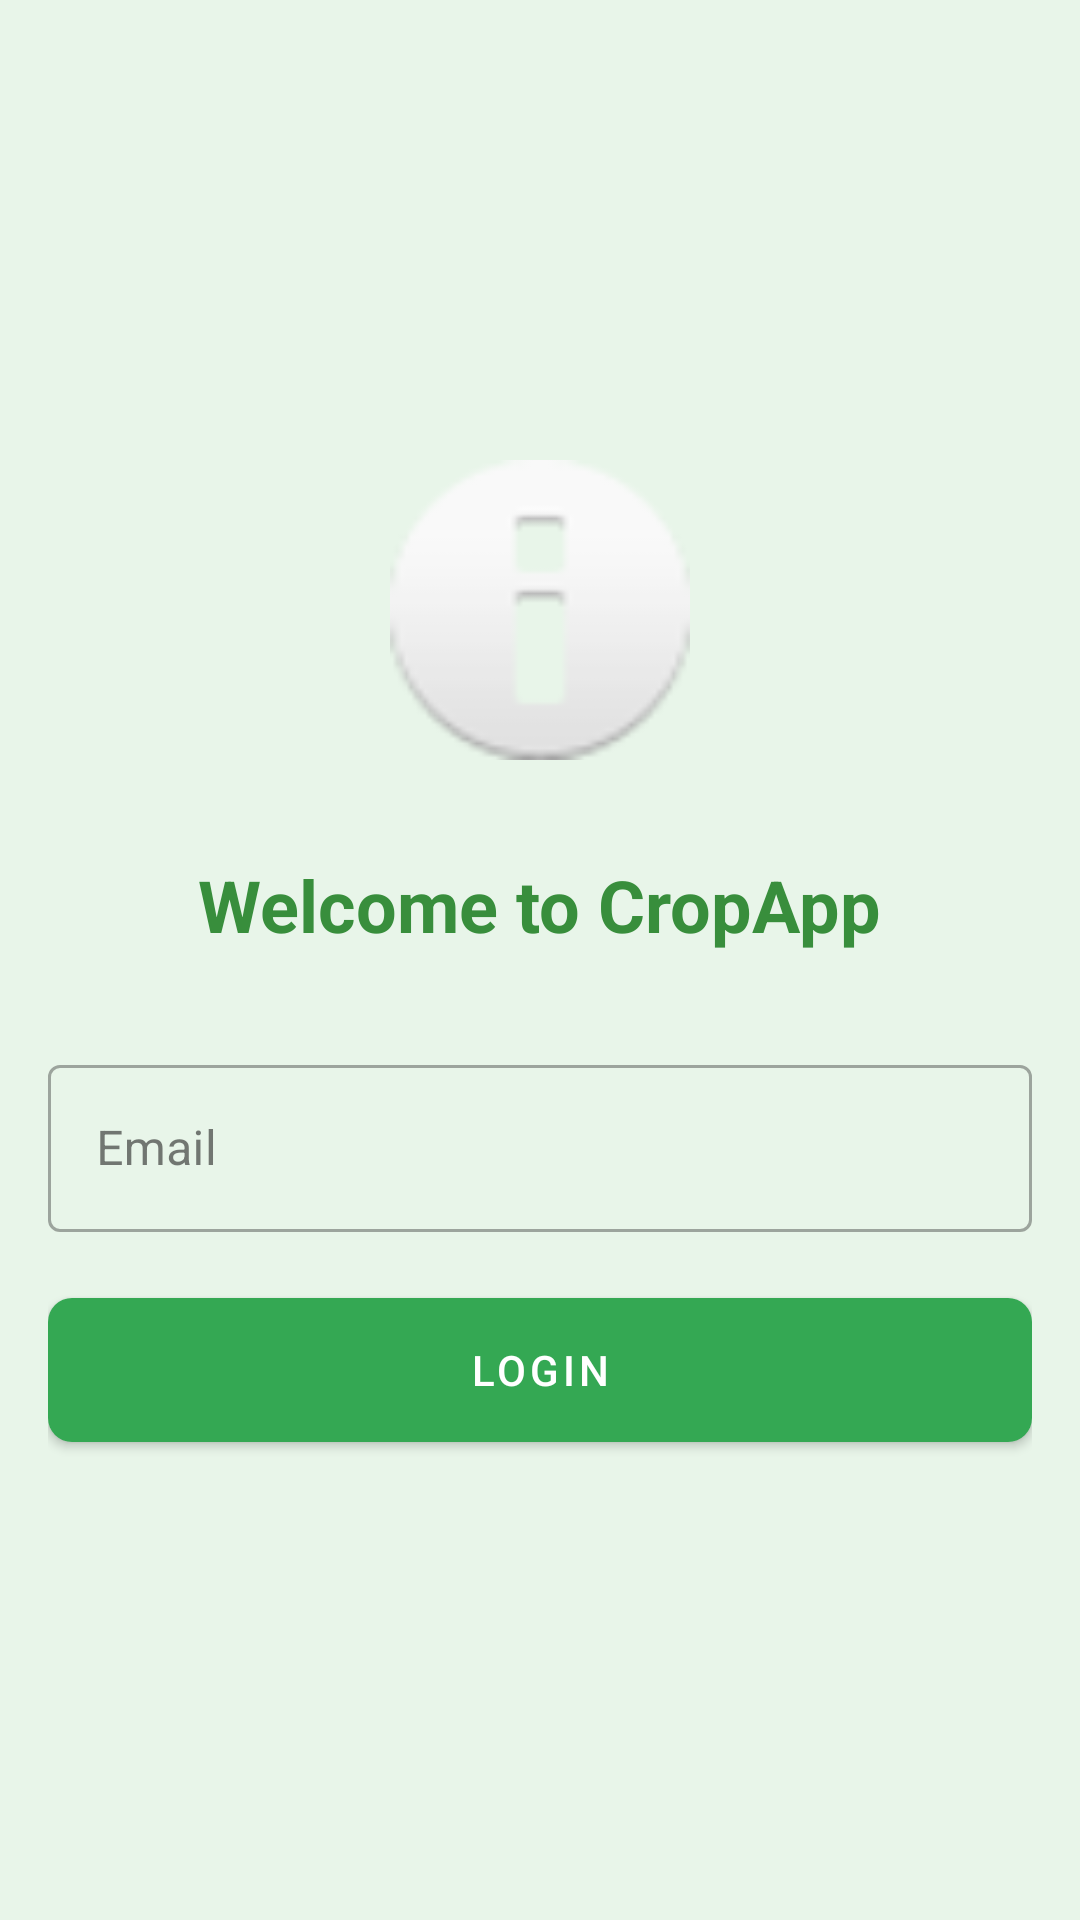

Locate icon controls on the screen. Image size 1080x1920, boxes as rect(x1, y1, x2, y2).
info: rect(390, 516, 690, 760)
